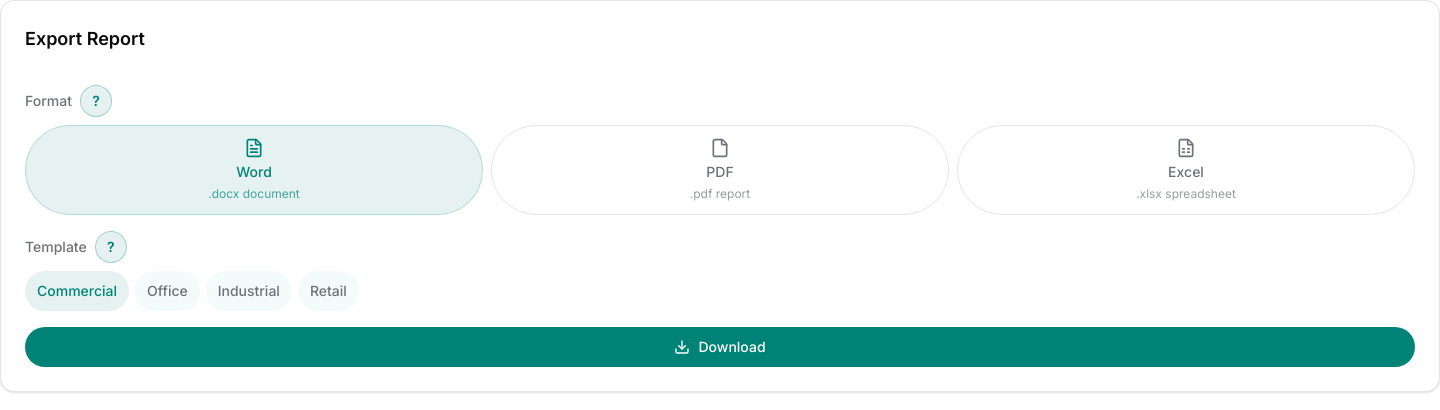
Test: ExportPanel › shows loading state during mutation
Click the button with test id "download-button": [720, 347] box [25,327,1415,367]
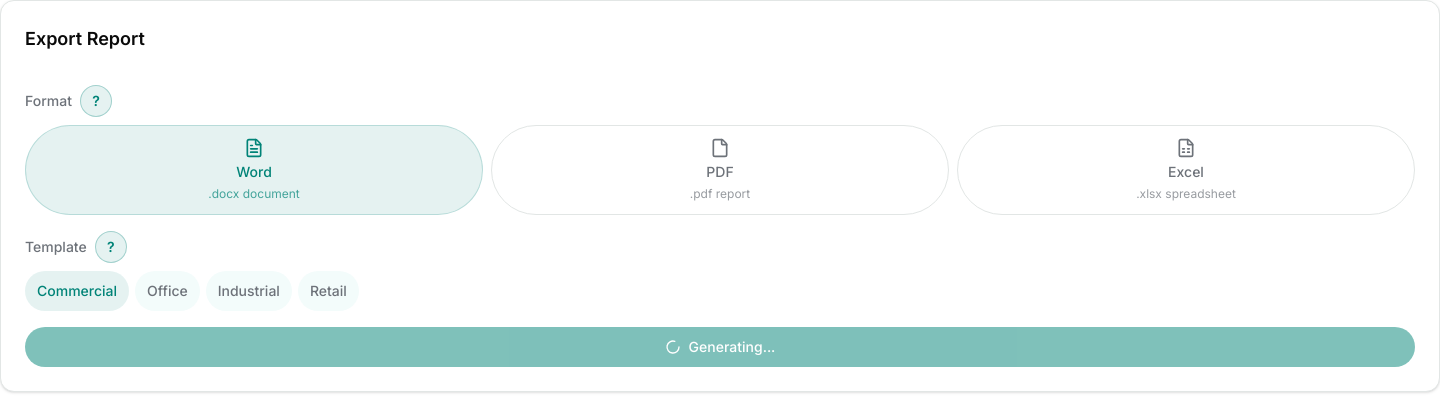
Now the button with test id "download-button" is disabled, box [25,327,1415,367]
